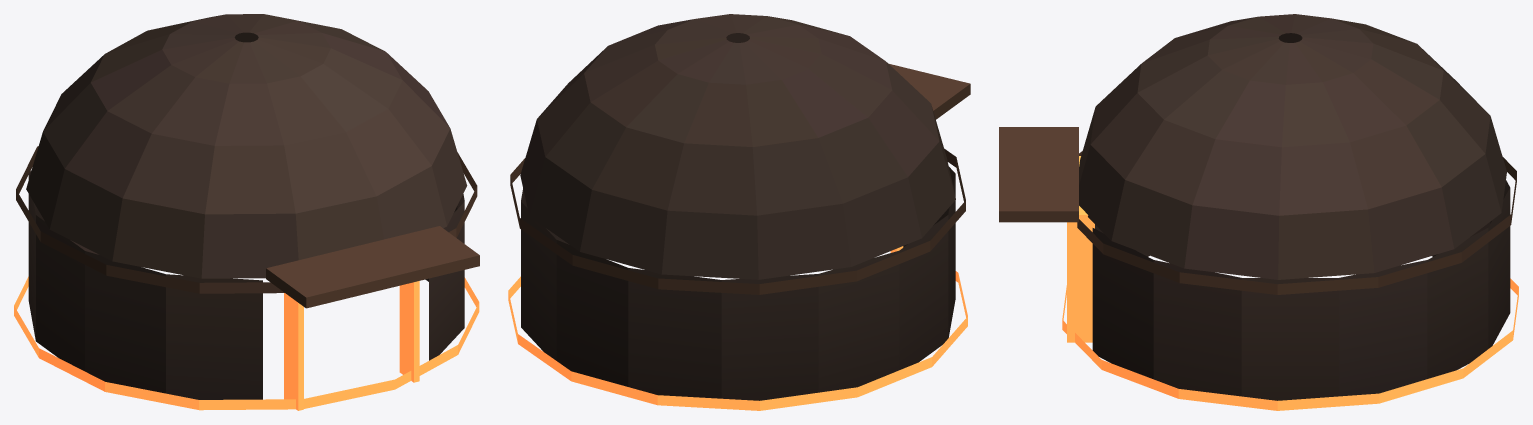
File: shaddai_dist_volcano_home_b_v01.glb
The picture shows the model from 3 angles, left to right: view 1: azimuth 30°, elevation 25°; view 2: azimuth 150°, elevation 25°; view 3: azimuth 270°, elevation 25°; orthographic projection.
Visible parts, largest first — view 1: shaddai_dist_volcano_home_b; view 2: shaddai_dist_volcano_home_b; view 3: shaddai_dist_volcano_home_b.
Boxes of the visible parts, <box> form: shaddai_dist_volcano_home_b: <box>14,14,479,410</box>; shaddai_dist_volcano_home_b: <box>508,14,970,410</box>; shaddai_dist_volcano_home_b: <box>999,14,1518,410</box>.
Size of the model in its own units: 11.58 by 7.6 by 13.02.
